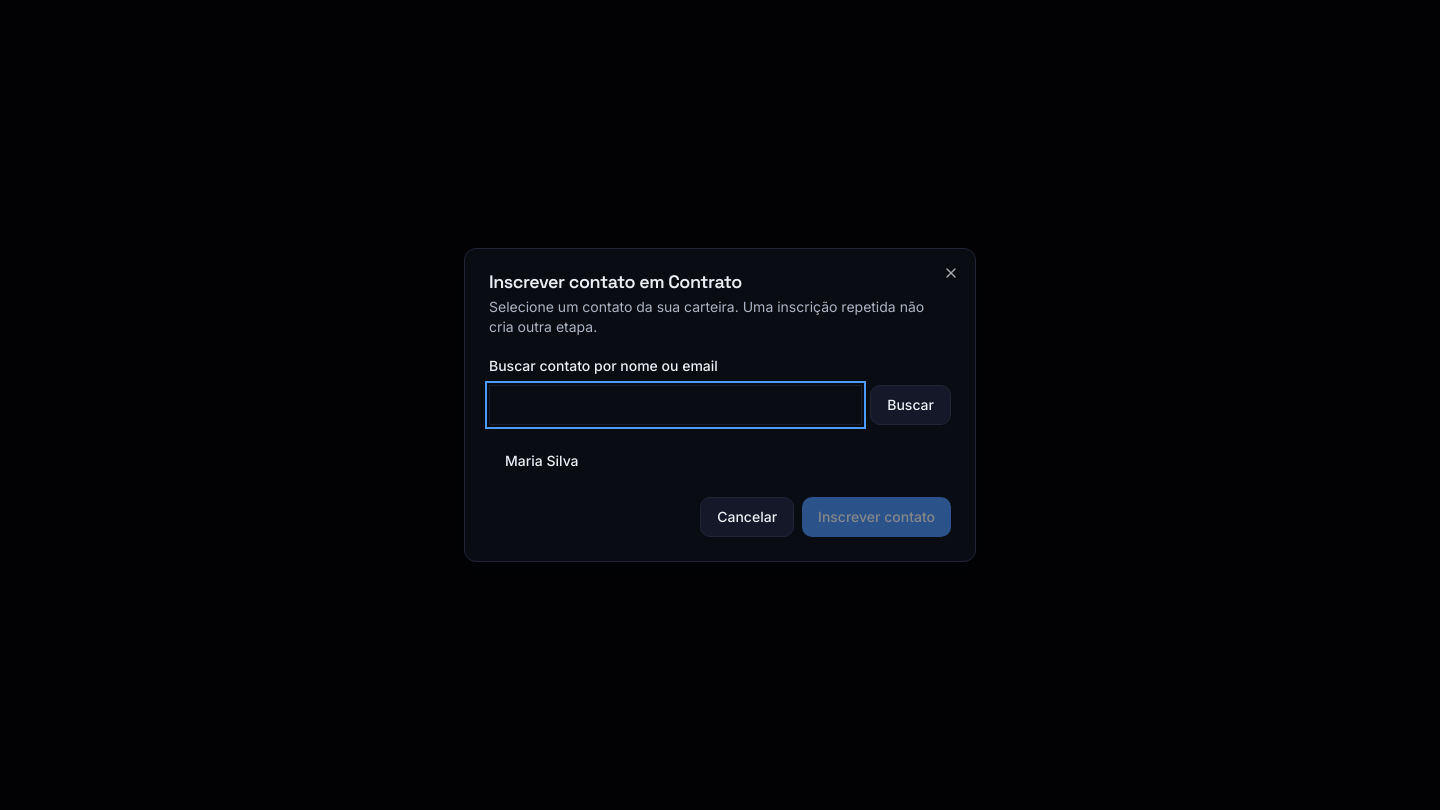
it: Inscrição com busca e cache da carteira › não inscreve um contato selecionado que desapareceu do cache após arquivamento
Later steps or results of the test are not shown.
Click the button "Maria Silva" at (542, 460), box [489,441,951,481]
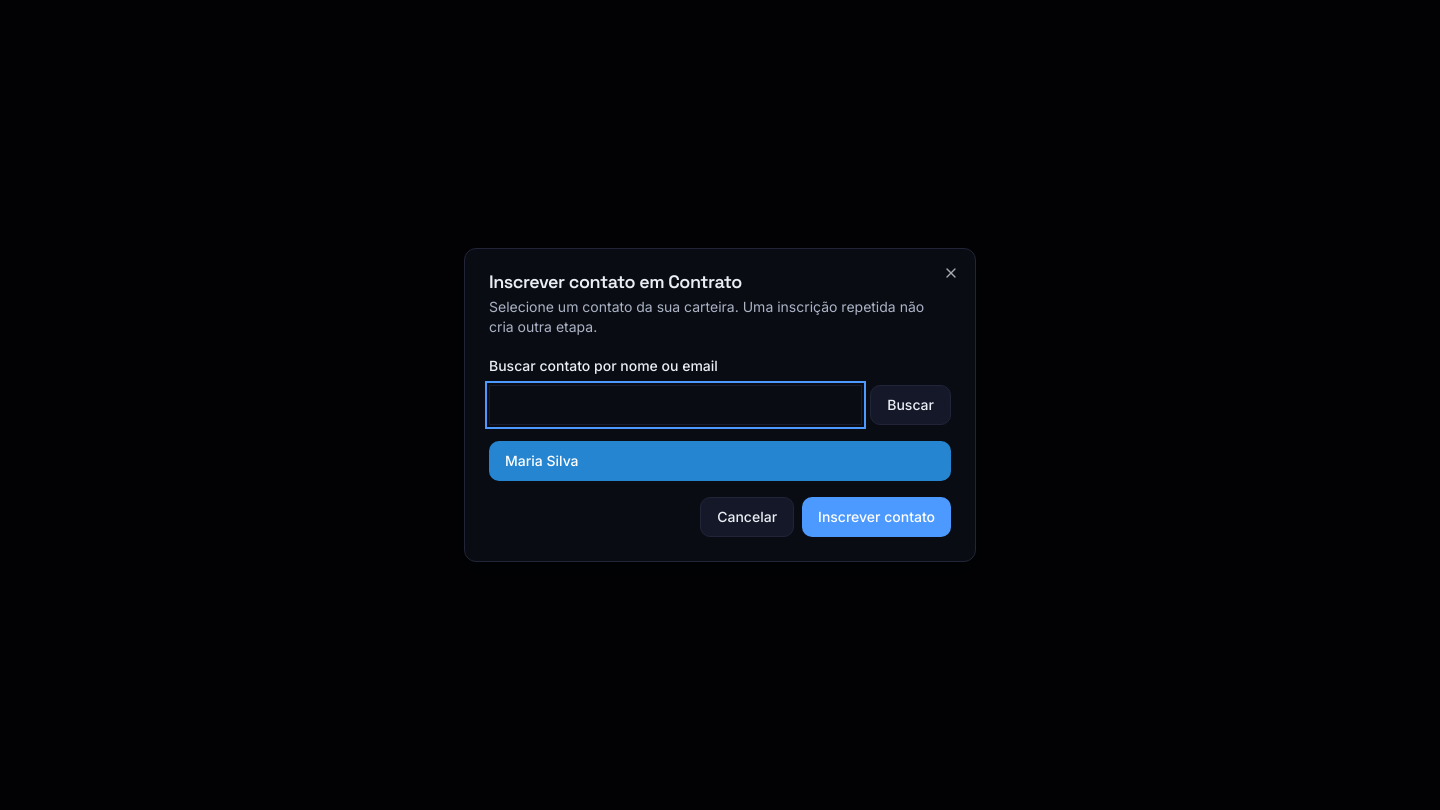
Result: the button "Inscrever contato" is enabled at [802,497,951,537]
